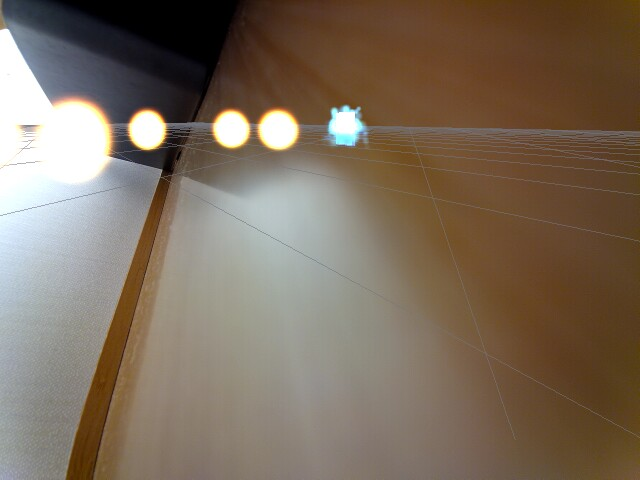firebig: (30, 76, 118, 193)
